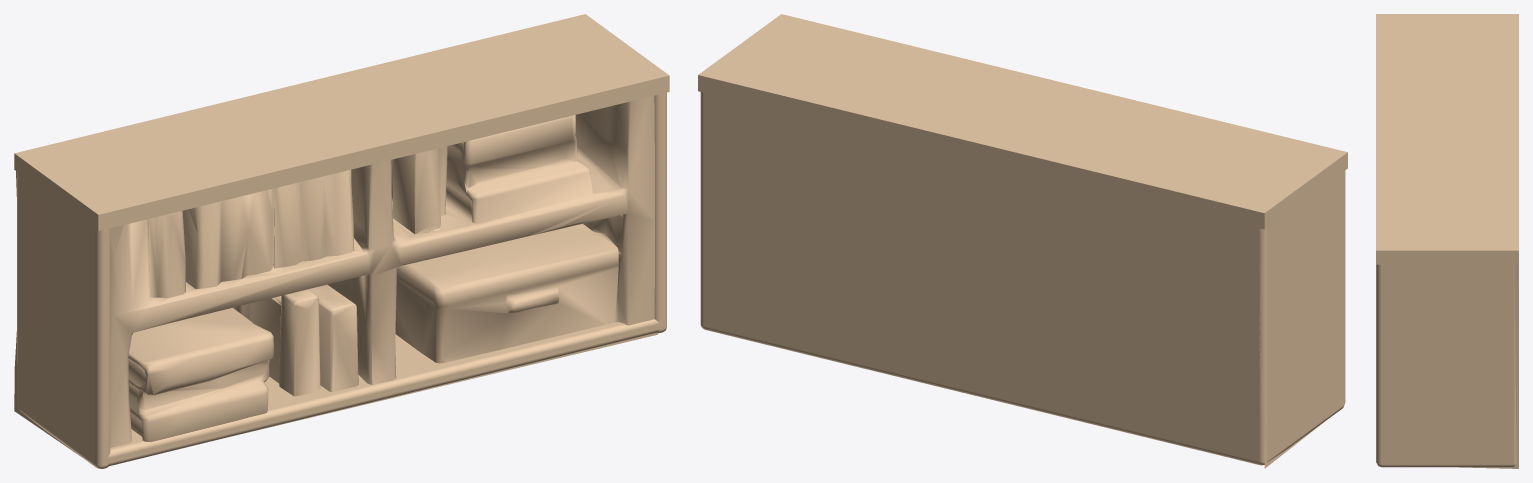
Rendered from show_study_shelf.glb.
The picture shows the model from 3 angles, left to right: view 1: azimuth 30°, elevation 25°; view 2: azimuth 150°, elevation 25°; view 3: azimuth 270°, elevation 25°; orthographic projection. The views are drawn at different scales.
Size of the model in its own units: 2.55 by 1.1 by 0.65.
